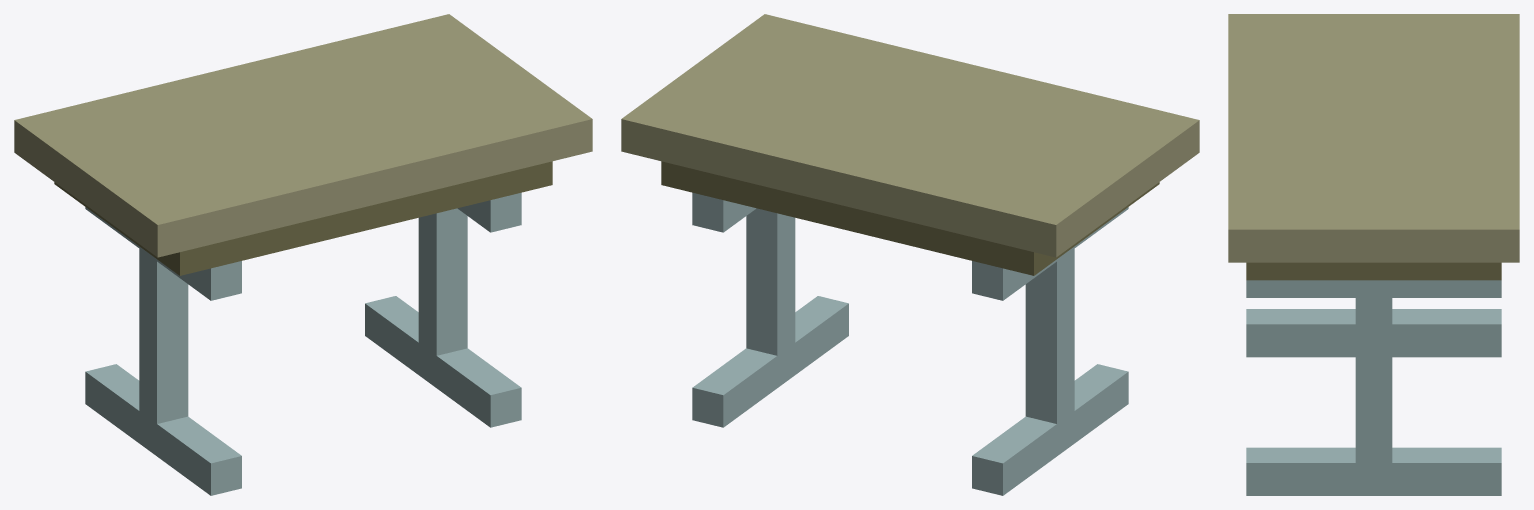
The model's file is Table.glb.
The picture shows the model from 3 angles, left to right: view 1: azimuth 30°, elevation 25°; view 2: azimuth 150°, elevation 25°; view 3: azimuth 270°, elevation 25°; orthographic projection.
Parts seen in each view (by area): view 1: generated(Clone); view 2: generated(Clone); view 3: generated(Clone).
Part boxes in pixels (left/top/right/bottom): generated(Clone): left=14, top=14, right=592, bottom=495; generated(Clone): left=621, top=14, right=1199, bottom=495; generated(Clone): left=1228, top=14, right=1519, bottom=495.
Size of the model in its own units: 14 by 9 by 8.
Materials: 1 (1 with a texture image).
